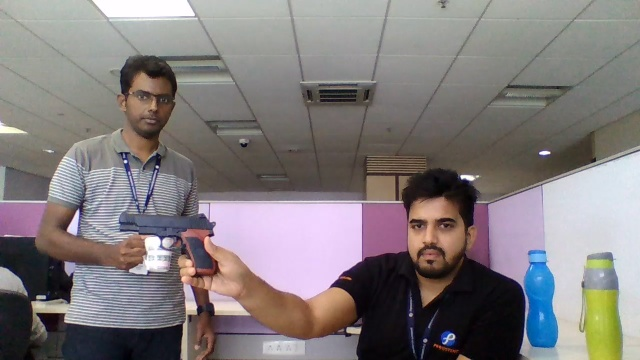gun: (113, 211, 216, 274)
